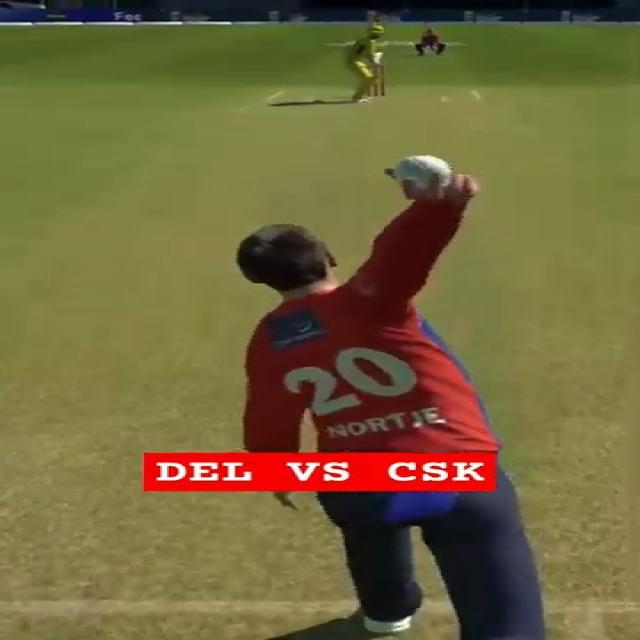ball: (393, 155, 453, 187)
